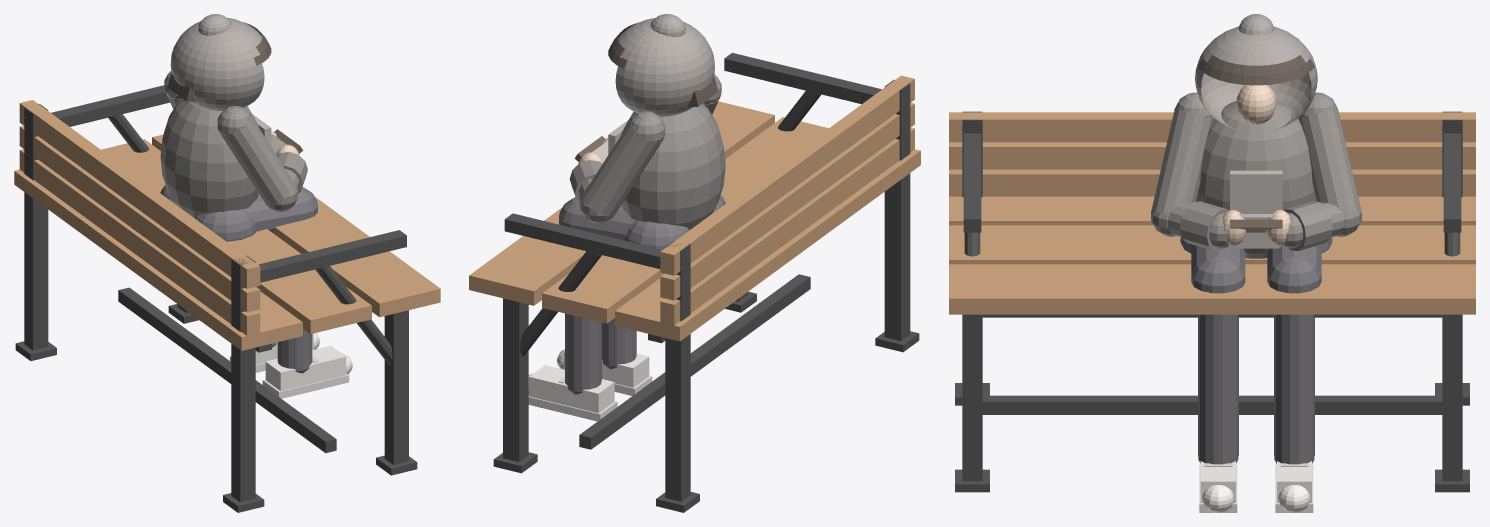
File: 48-man-reading-on-bench.glb
3 views of the same model, side by side, from view 1: azimuth 30°, elevation 25°; view 2: azimuth 150°, elevation 25°; view 3: azimuth 270°, elevation 25° (orthographic). The views are drawn at different scales.
Parts seen in each view (by area): view 1: torso, back_slat_2, seat_slat_2, seat_slat_1, hood, seat_slat_0, back_slat_0, back_slat_1, post_back_A, post_back_B, stretcher, armU_L (+14 smaller); view 2: torso, back_slat_2, seat_slat_1, hood, seat_slat_0, seat_slat_2, back_slat_1, back_slat_0, post_back_A, post_back_B, stretcher, armU_R (+17 smaller); view 3: seat_slat_2, seat_slat_1, back_slat_2, seat_slat_0, back_slat_1, back_slat_0, torso, stretcher, calf_L, calf_R, hood, armU_R (+25 smaller).
Part boxes in pixels (left/top/right/bottom): torso: left=160, top=99, right=258, bottom=217; back_slat_2: left=19, top=100, right=260, bottom=288; seat_slat_2: left=152, top=134, right=440, bottom=317; seat_slat_1: left=101, top=139, right=371, bottom=334; hood: left=170, top=17, right=264, bottom=110; seat_slat_0: left=14, top=169, right=302, bottom=350; back_slat_0: left=19, top=149, right=260, bottom=335; back_slat_1: left=19, top=125, right=260, bottom=312; post_back_A: left=231, top=255, right=255, bottom=502; post_back_B: left=24, top=104, right=48, bottom=350; stretcher: left=118, top=287, right=336, bottom=453; armU_L: left=217, top=106, right=297, bottom=211; torso: left=621, top=104, right=725, bottom=229; back_slat_2: left=660, top=75, right=914, bottom=275; seat_slat_1: left=542, top=117, right=828, bottom=323; hood: left=615, top=18, right=714, bottom=116; seat_slat_0: left=615, top=149, right=920, bottom=341; seat_slat_2: left=469, top=101, right=774, bottom=305; back_slat_1: left=660, top=103, right=914, bottom=300; back_slat_0: left=660, top=127, right=914, bottom=325; post_back_A: left=884, top=79, right=910, bottom=340; post_back_B: left=665, top=240, right=690, bottom=501; stretcher: left=579, top=274, right=810, bottom=449; armU_R: left=580, top=111, right=665, bottom=223; seat_slat_2: left=949, top=264, right=1475, bottom=314; seat_slat_1: left=949, top=225, right=1475, bottom=264; back_slat_2: left=949, top=112, right=1475, bottom=142; seat_slat_0: left=949, top=196, right=1475, bottom=225; back_slat_1: left=949, top=142, right=1475, bottom=169; back_slat_0: left=949, top=169, right=1475, bottom=196; torso: left=1196, top=101, right=1316, bottom=258; stretcher: left=982, top=395, right=1442, bottom=414; calf_L: left=1198, top=314, right=1238, bottom=464; calf_R: left=1274, top=314, right=1314, bottom=464; hood: left=1195, top=26, right=1317, bottom=130; armU_R: left=1298, top=92, right=1361, bottom=236.
Bounding box in the file's own units: 1.04 × 1.64 × 1.8.
